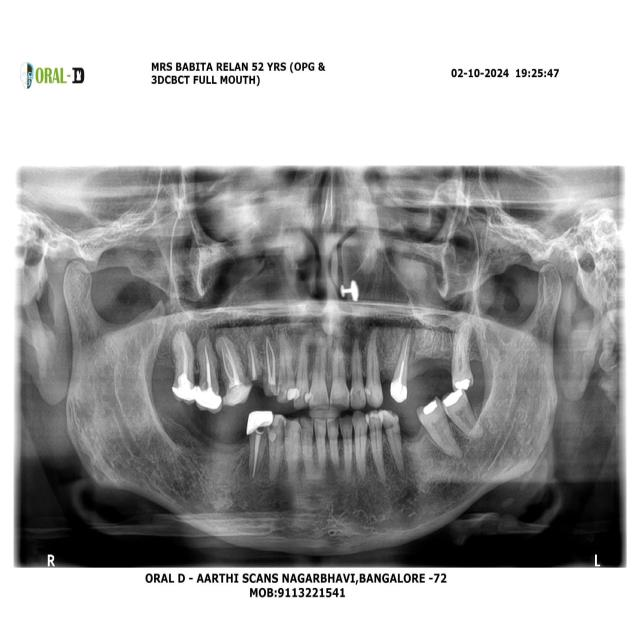Premolars: (367, 408, 387, 489), (386, 408, 406, 487)
